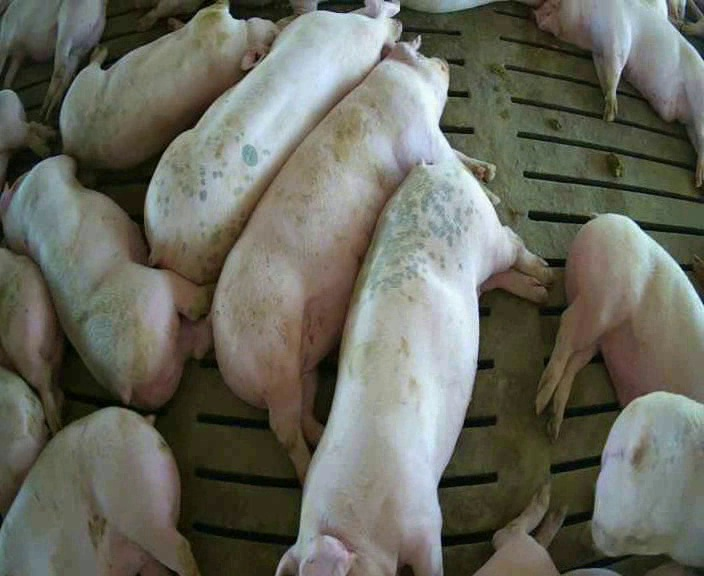pig: (212, 35, 499, 478), (278, 159, 550, 574), (0, 156, 213, 408), (536, 214, 703, 438), (60, 2, 277, 168), (0, 407, 197, 574), (535, 2, 703, 184), (592, 392, 703, 565), (0, 2, 105, 119)
